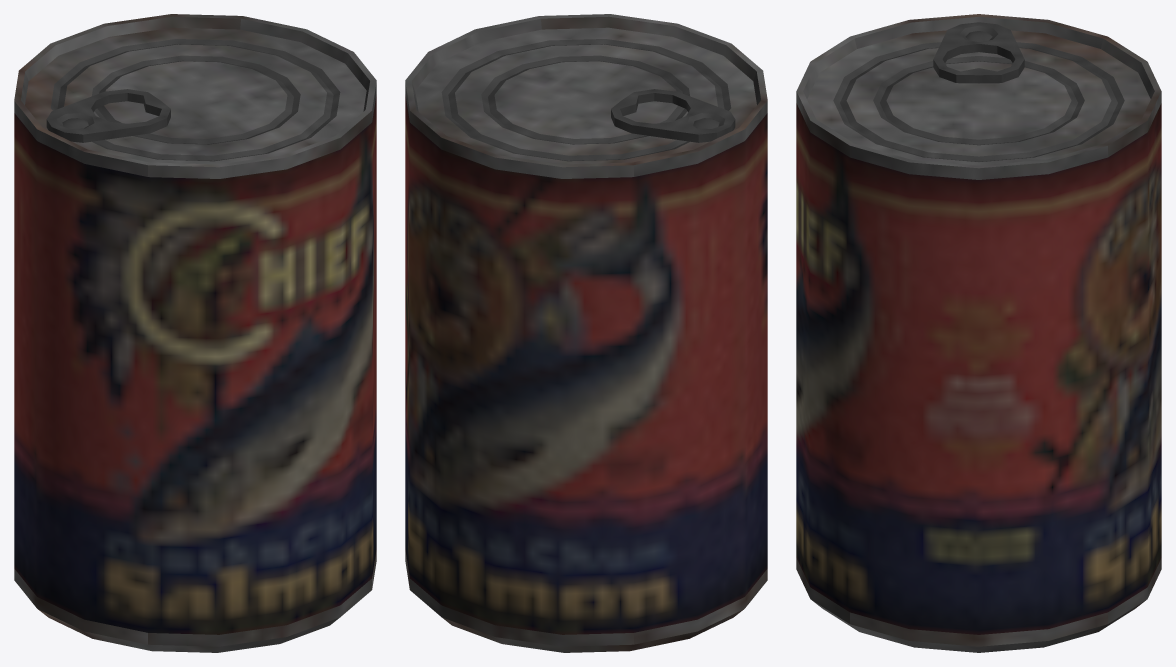
Rendered from canned_food_1.fbx.
3 views of the same model, side by side, from view 1: azimuth 30°, elevation 25°; view 2: azimuth 150°, elevation 25°; view 3: azimuth 270°, elevation 25° (orthographic).
Parts seen in each view (by area): view 1: canned_food_1; view 2: canned_food_1; view 3: canned_food_1.
Boxes of the visible parts, x1,y1,x2,y2 form: canned_food_1: [14, 14, 376, 652]; canned_food_1: [405, 14, 767, 652]; canned_food_1: [796, 14, 1161, 652].
Bounding box in the file's own units: 11.2 × 16.6 × 11.2.
